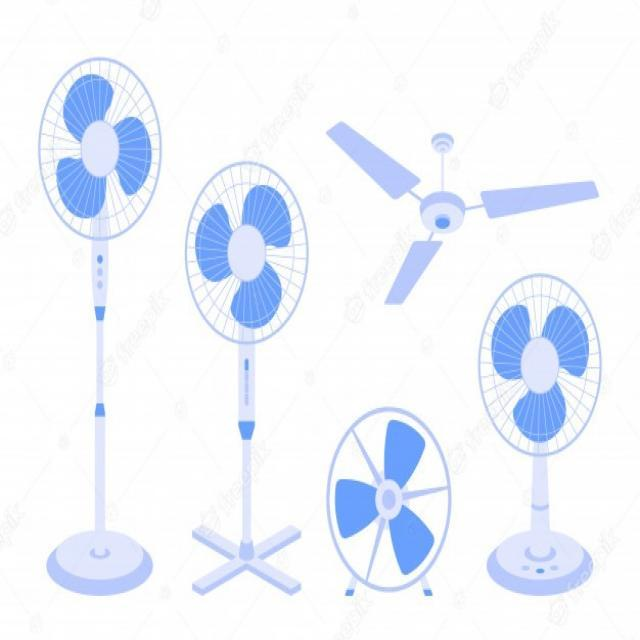fan: (41, 53, 605, 596)
